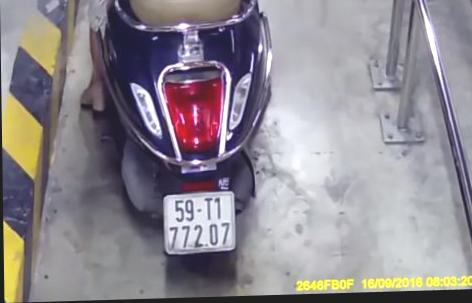License_Plate: (157, 188, 242, 261)
